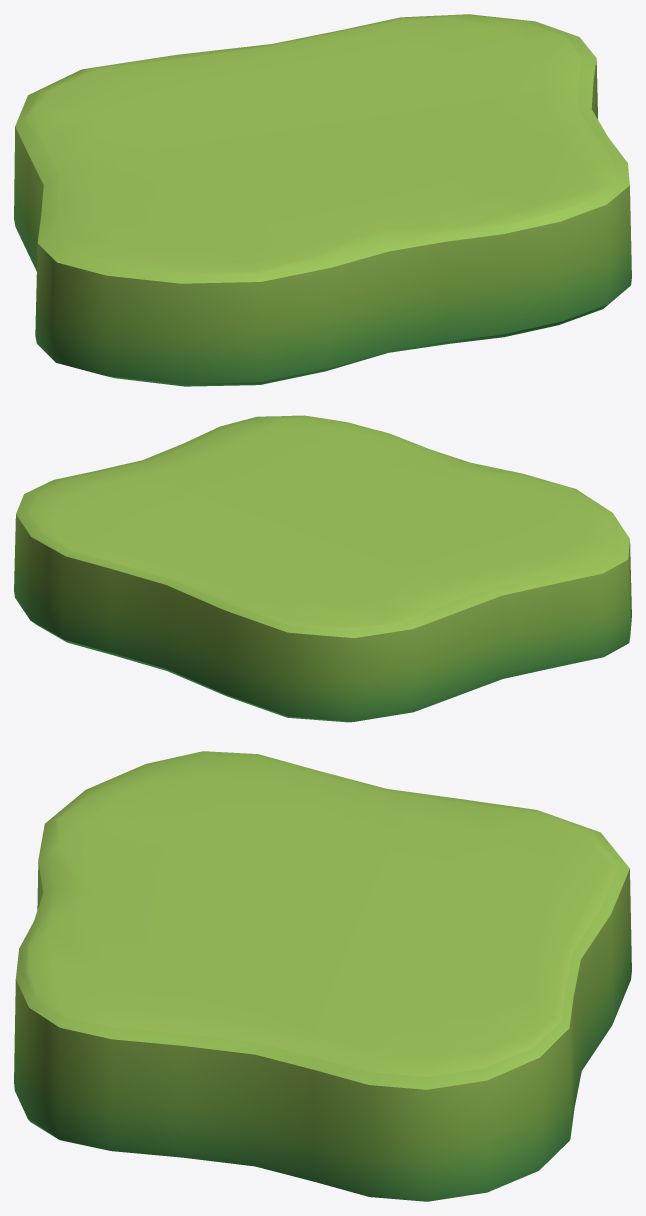
File: platform_grass.gltf
3 renders of one model, top to bottom at view 1: azimuth 30°, elevation 25°; view 2: azimuth 150°, elevation 25°; view 3: azimuth 270°, elevation 25°, orthographic. The views are drawn at different scales.
Parts seen in each view (by area): view 1: PlatformGrass; view 2: PlatformGrass; view 3: PlatformGrass.
Part boxes in pixels (x1,y1,x2,y2): PlatformGrass: (14, 14, 631, 386); PlatformGrass: (14, 415, 631, 722); PlatformGrass: (14, 751, 631, 1201).
Bounding box in the file's own units: 8.85 × 1.51 × 6.78.
Materials: 1 (1 with a texture image).
